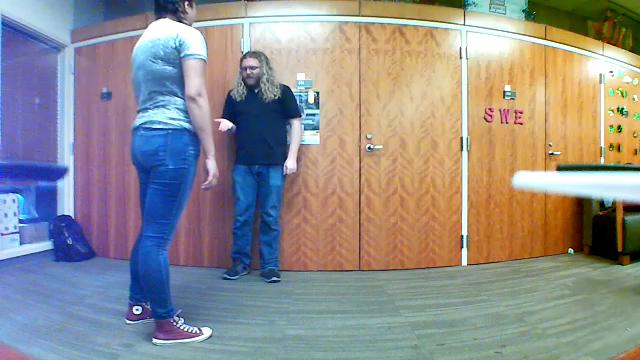land: (208, 113, 237, 133)
